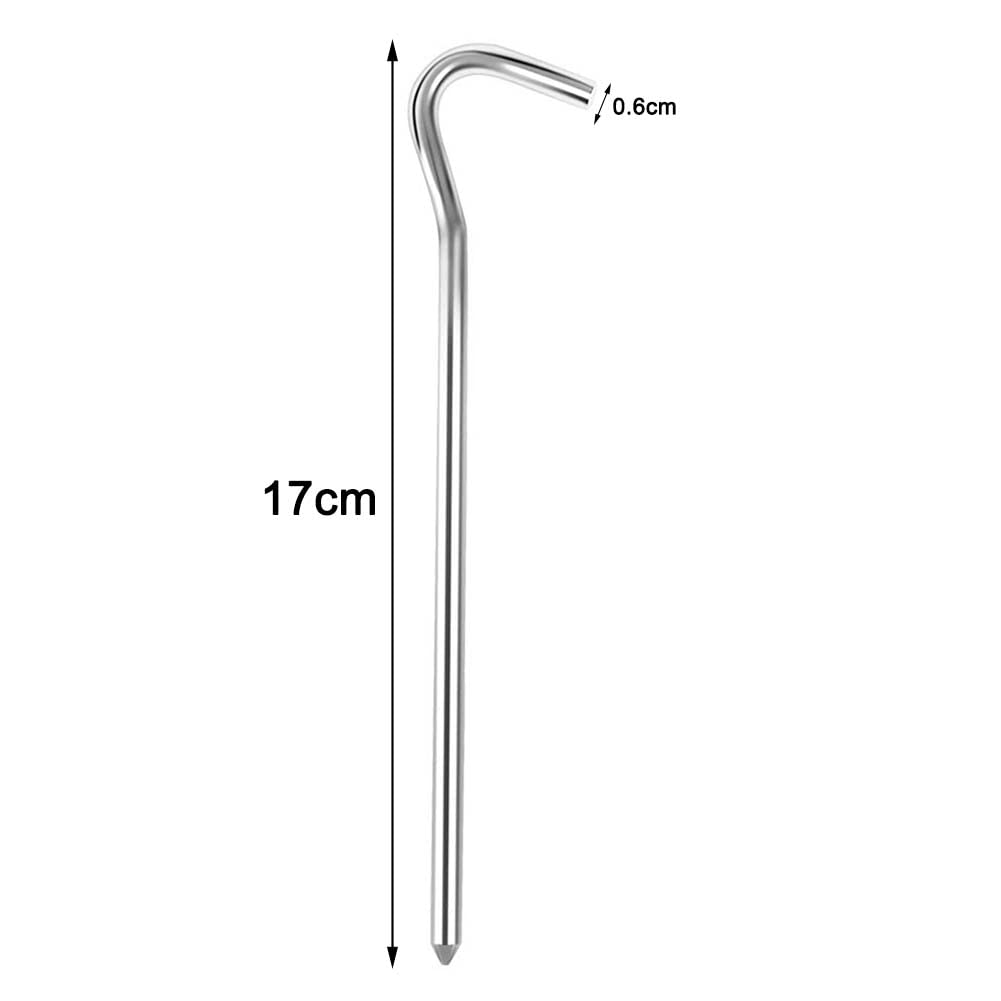17cm: (265, 480, 375, 516)
